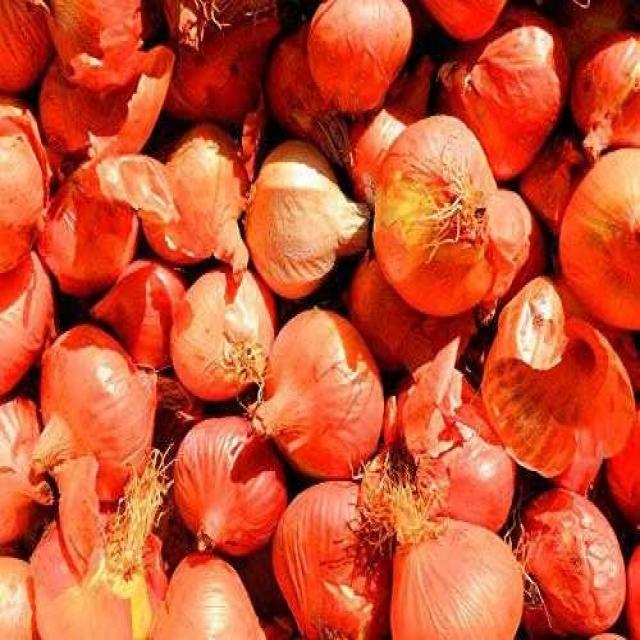onion: (481, 273, 639, 480), (373, 114, 531, 314), (385, 340, 517, 530), (19, 471, 165, 640), (256, 307, 387, 481), (41, 2, 177, 167), (428, 26, 564, 182), (246, 138, 372, 300), (41, 326, 161, 495), (348, 239, 475, 394), (274, 481, 393, 640), (169, 413, 292, 556), (514, 490, 628, 638), (122, 135, 246, 271), (390, 520, 524, 640), (32, 157, 145, 297), (171, 261, 274, 408), (559, 145, 640, 331), (170, 0, 287, 125), (306, 0, 416, 114), (351, 63, 429, 219), (92, 258, 192, 376), (0, 98, 52, 300), (569, 30, 640, 170), (151, 556, 268, 640), (0, 394, 59, 553), (1, 234, 58, 396), (507, 130, 585, 242), (264, 33, 332, 138), (0, 0, 52, 97), (412, 0, 510, 46), (0, 556, 36, 640)
